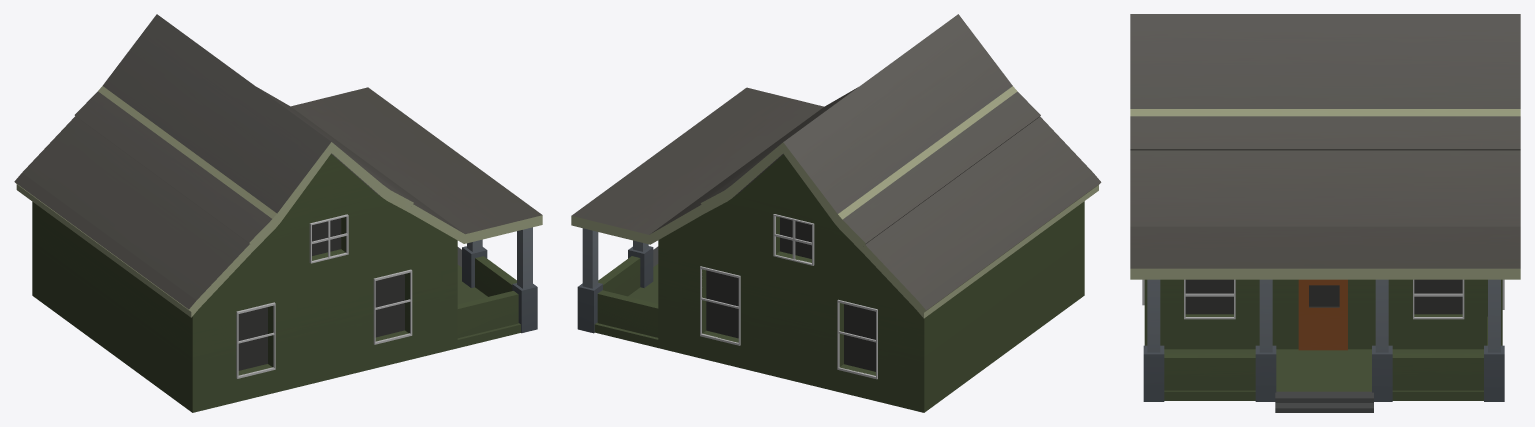
File: home2.fbx
3 renders of one model, left to right at view 1: azimuth 30°, elevation 25°; view 2: azimuth 150°, elevation 25°; view 3: azimuth 270°, elevation 25°, orthographic. The views are drawn at different scales.
Parts seen in each view (by area): view 1: Cube.065; view 2: Cube.065; view 3: Cube.065.
Boxes of the visible parts, x1,y1,x2,y2 form: Cube.065: (14, 14, 542, 412); Cube.065: (571, 14, 1101, 412); Cube.065: (1130, 14, 1520, 412).
Bounding box in the file's own units: 23.42 × 14.53 × 18.88.
